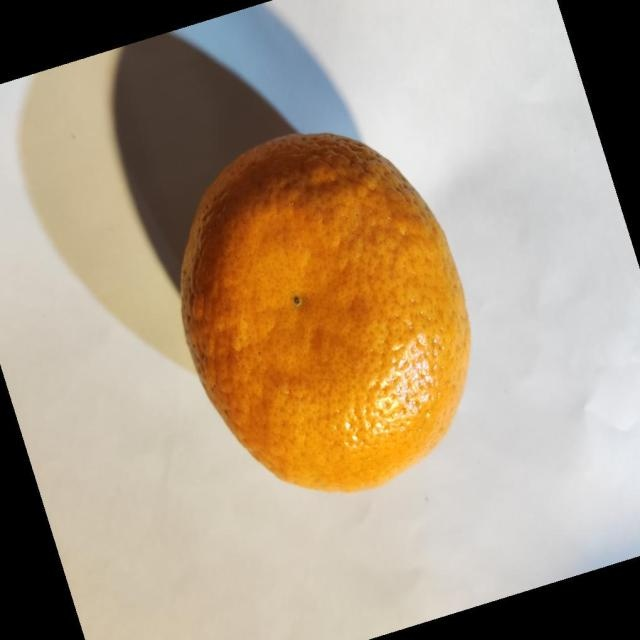agrume: (178, 131, 471, 493)
